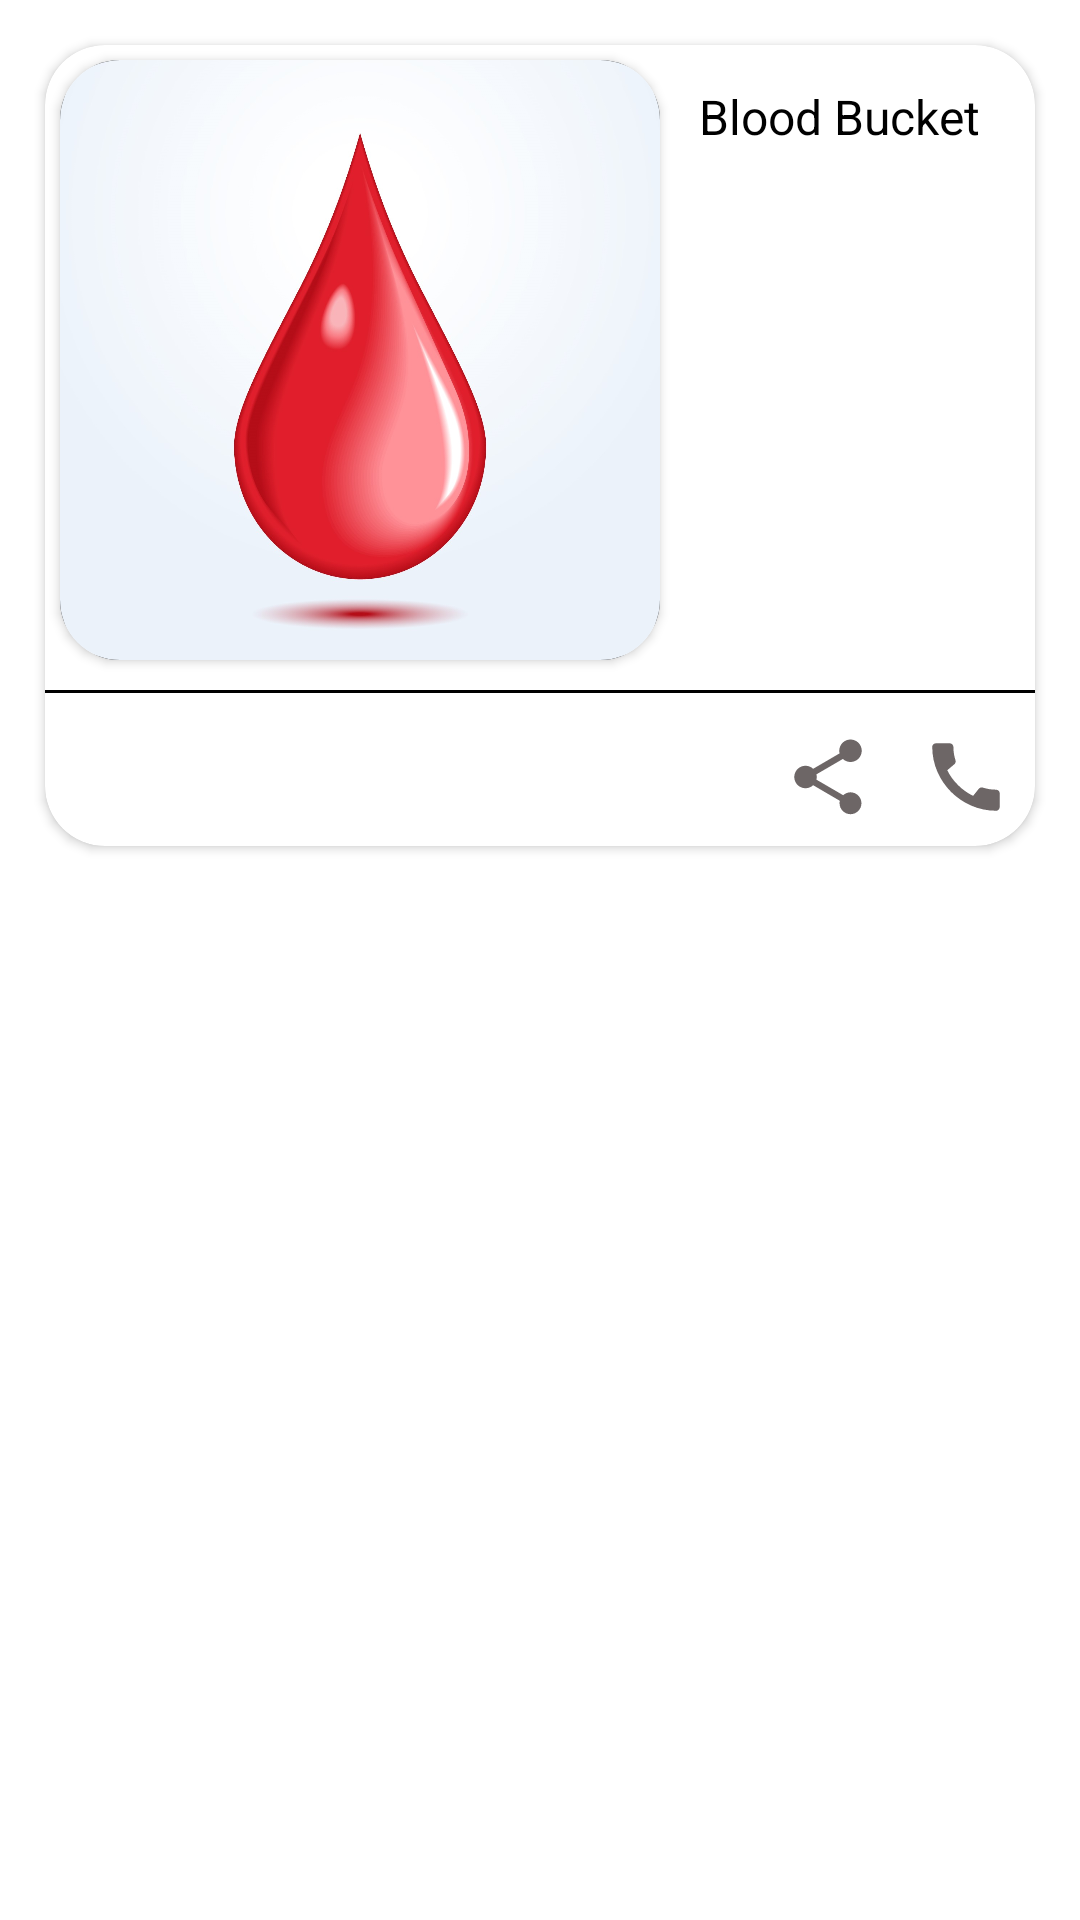

Named icons in this screenshot (1080 × 1920) and their centers, point (x, y):
call: point (966, 777)
share: point (828, 777)
